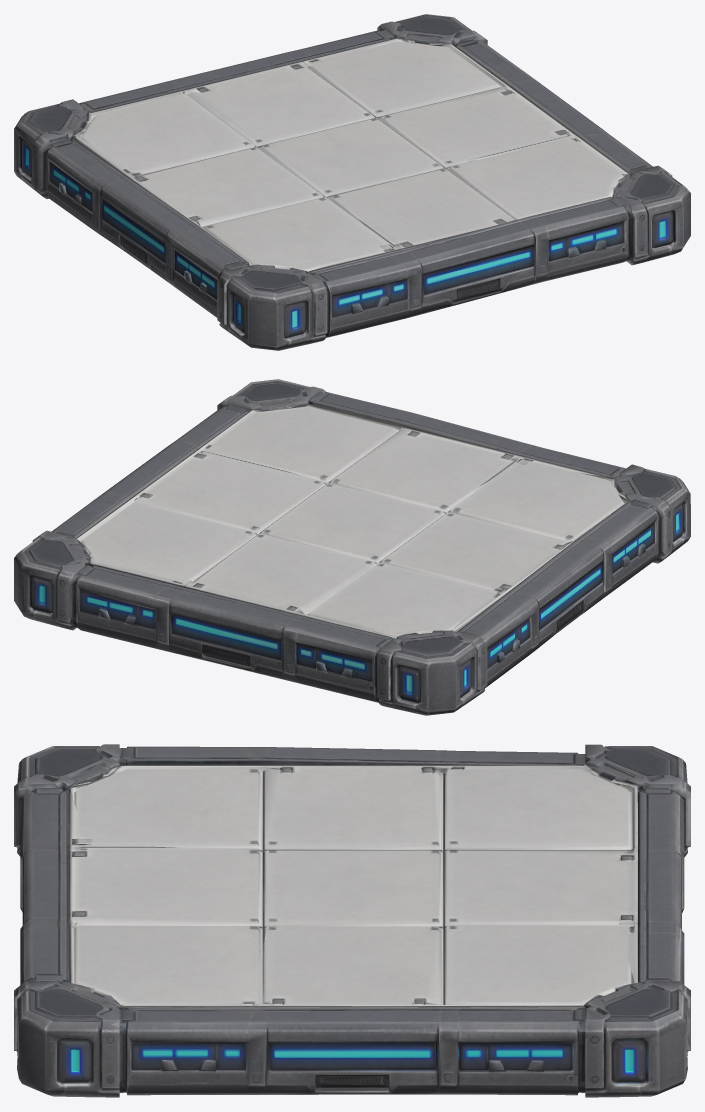
The model's file is futuristic_platform_3d_model.fbx.
The picture shows the model from 3 angles, top to bottom: view 1: azimuth 30°, elevation 25°; view 2: azimuth 150°, elevation 25°; view 3: azimuth 270°, elevation 25°; orthographic projection. The views are drawn at different scales.
Visible parts, largest first — view 1: tripo_4a82da29_8436_435f_9a6f_4b5c8effb5b5; view 2: tripo_4a82da29_8436_435f_9a6f_4b5c8effb5b5; view 3: tripo_4a82da29_8436_435f_9a6f_4b5c8effb5b5.
Part boxes in pixels (box(x1,y1,x2,y2)): tripo_4a82da29_8436_435f_9a6f_4b5c8effb5b5: box(14, 14, 690, 350); tripo_4a82da29_8436_435f_9a6f_4b5c8effb5b5: box(14, 379, 690, 715); tripo_4a82da29_8436_435f_9a6f_4b5c8effb5b5: box(14, 744, 690, 1097).
Bounding box in the file's own units: 0.9995 × 0.1274 × 0.9995.
Materials: 1 (1 with a texture image).
